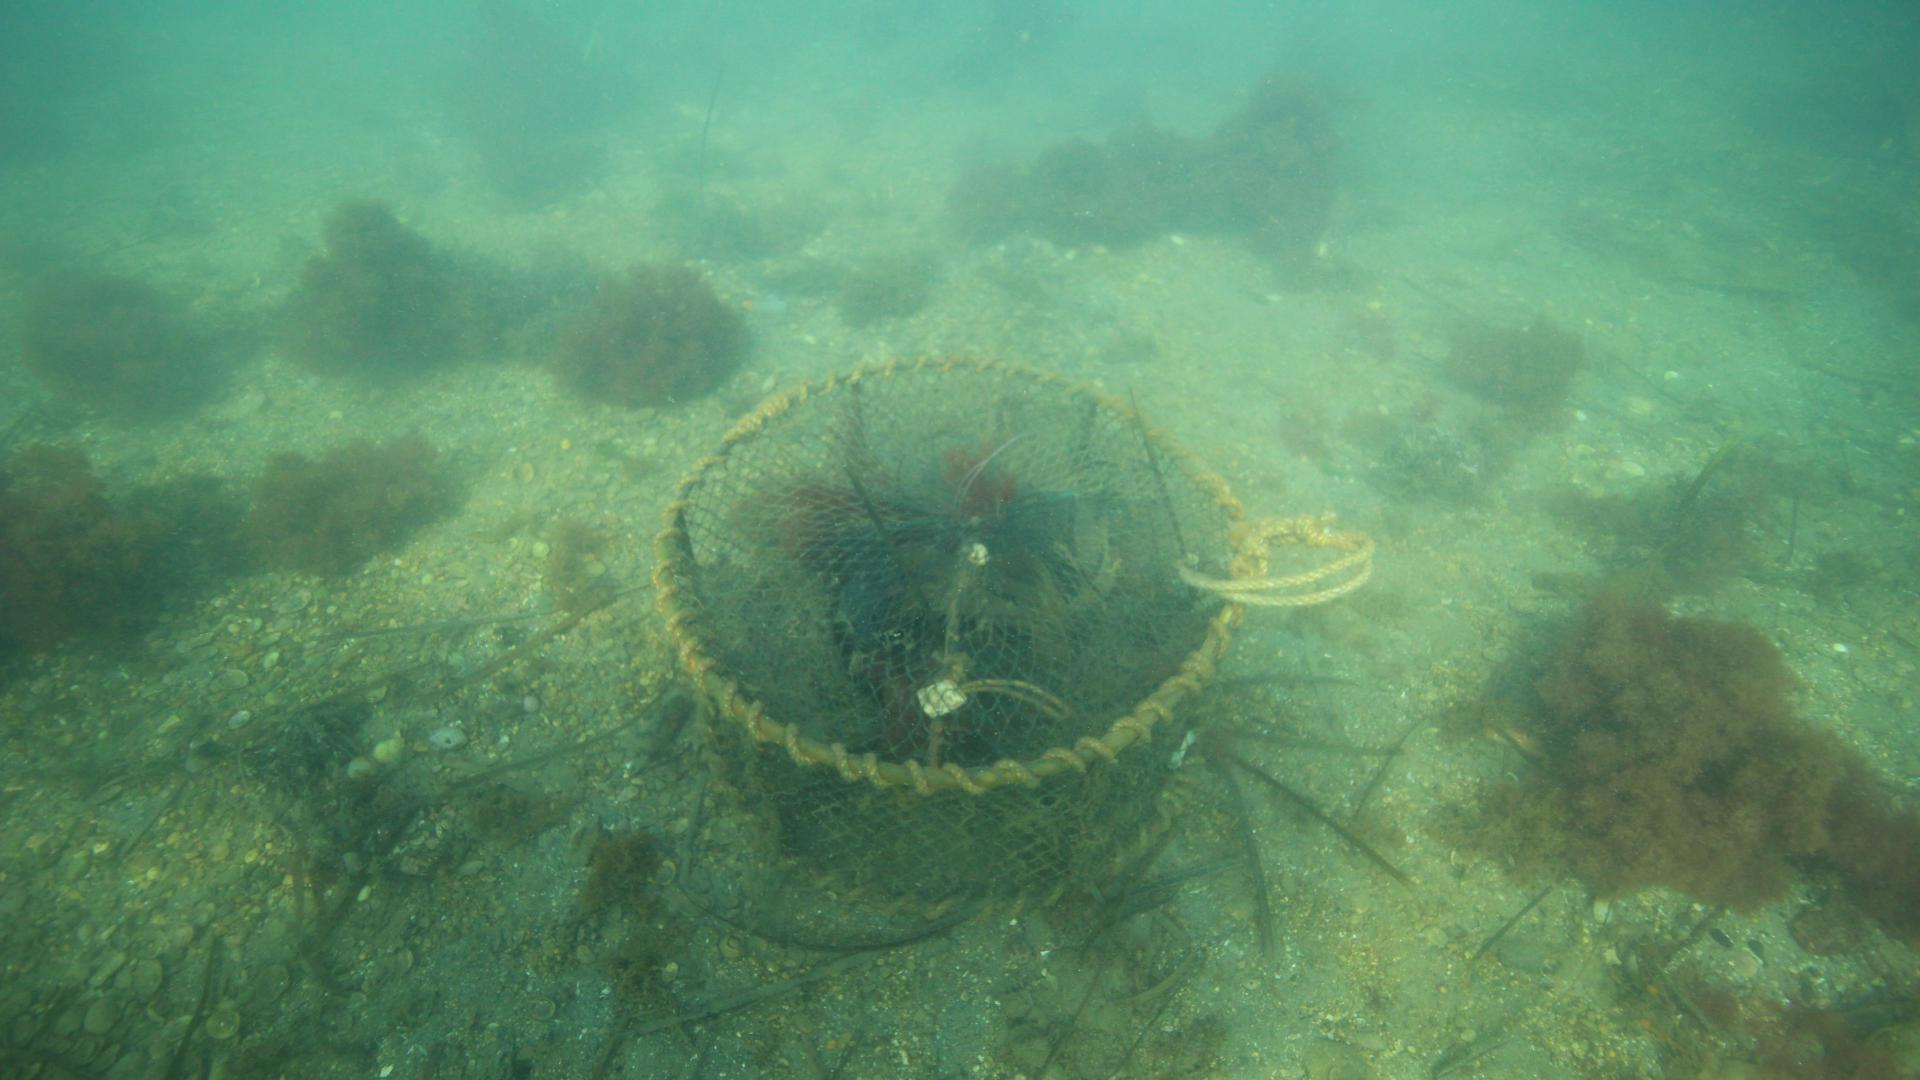bundle of ropes: (1178, 516, 1375, 605)
circular fish trap: (647, 349, 1253, 920)
